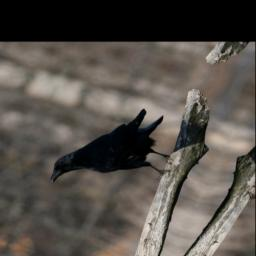Crow: (44, 93, 197, 211)
